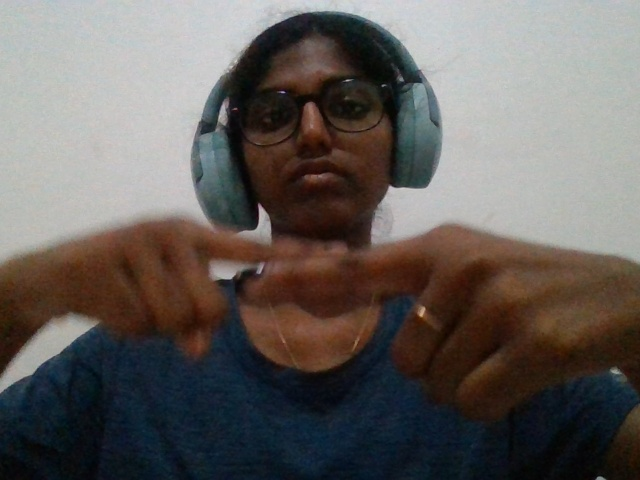Sign: (4, 189, 620, 470)
